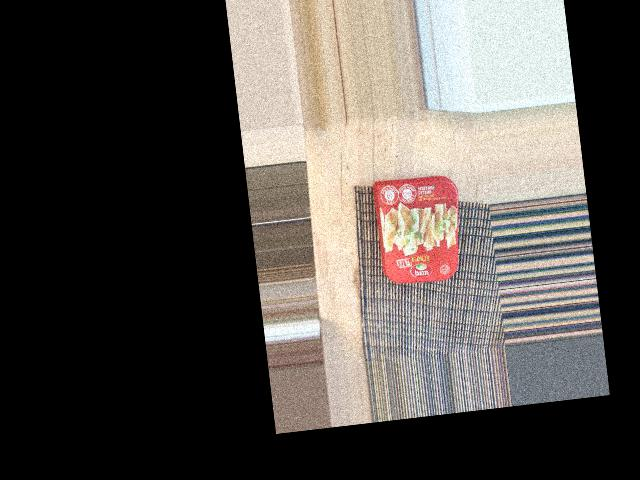cheese: (381, 212, 500, 323)
